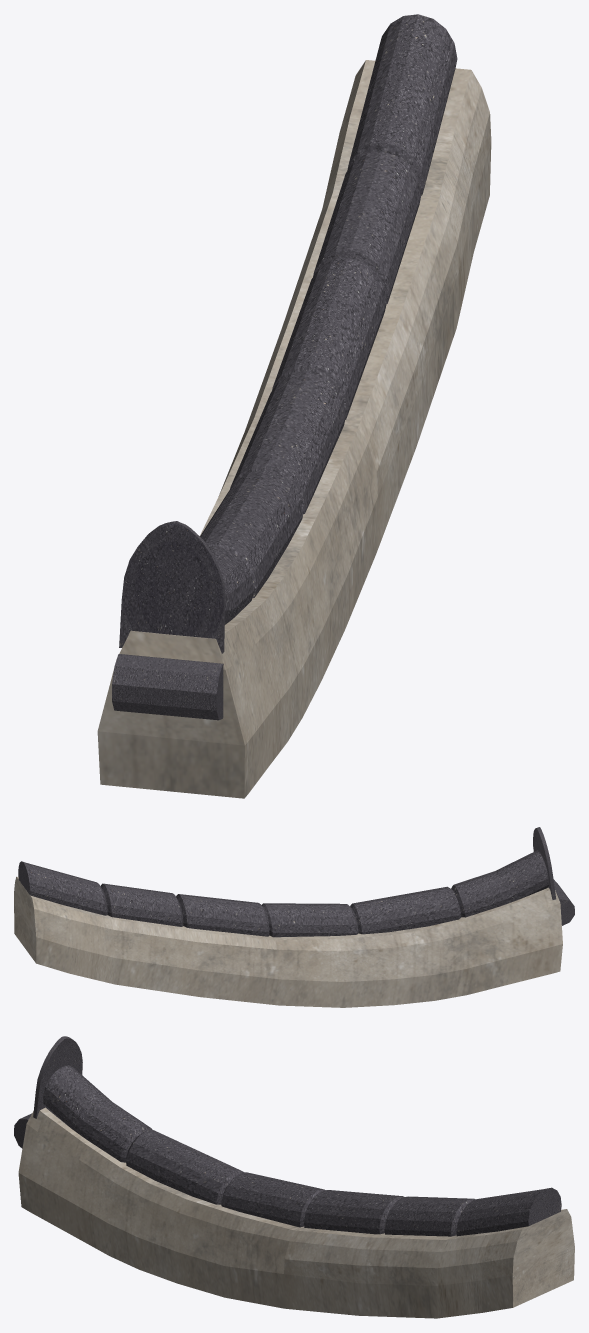
File: SM_R_BeamRoof_6.fbx
3 renders of one model, top to bottom at view 1: azimuth 30°, elevation 25°; view 2: azimuth 150°, elevation 25°; view 3: azimuth 270°, elevation 25°, orthographic. The views are drawn at different scales.
Visible parts, largest first — view 1: SM_R_BeamRoof_6; view 2: SM_R_BeamRoof_6; view 3: SM_R_BeamRoof_6.
Part boxes in pixels (bbox=[...]): SM_R_BeamRoof_6: bbox=[97, 14, 491, 798]; SM_R_BeamRoof_6: bbox=[14, 827, 574, 1007]; SM_R_BeamRoof_6: bbox=[14, 1036, 574, 1318].
Bounding box in the file's own units: 287 × 304 × 128.
Materials: 2 (2 with a texture image).
